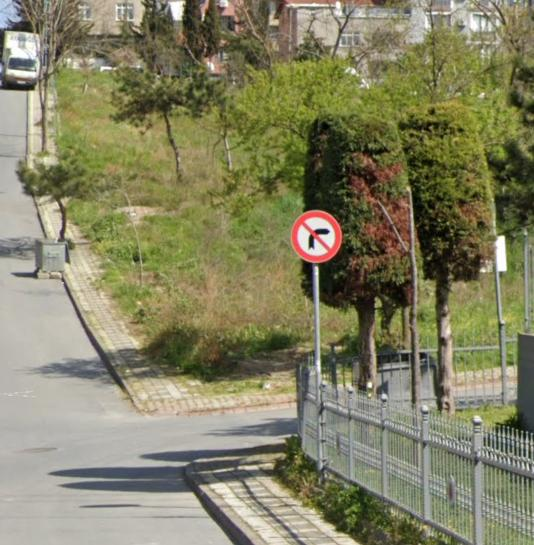rightturnsareforbidden: (293, 211, 341, 259)
